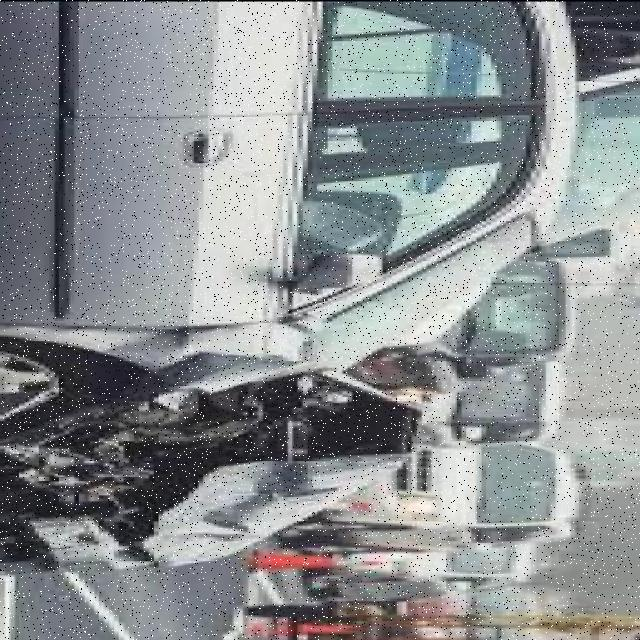damage: (0, 320, 415, 573)
